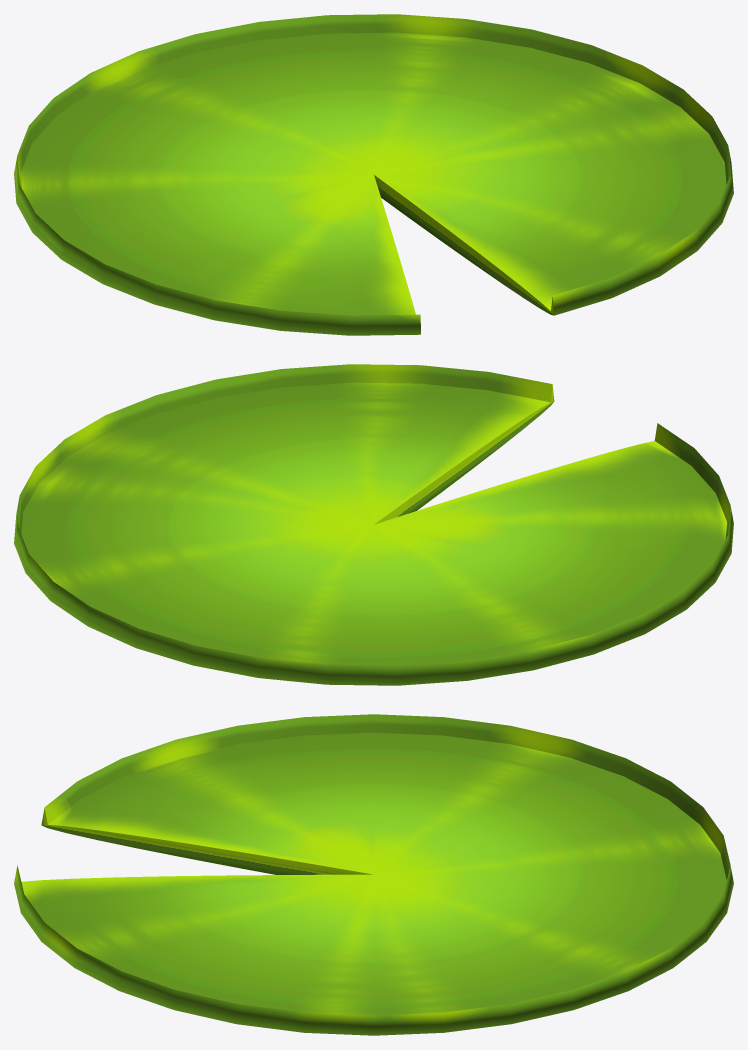
The model's file is Lilypad.fbx.
3 renders of one model, top to bottom at view 1: azimuth 30°, elevation 25°; view 2: azimuth 150°, elevation 25°; view 3: azimuth 270°, elevation 25°, orthographic.
Visible parts, largest first — view 1: Sphere; view 2: Sphere; view 3: Sphere.
Part boxes in pixels (left/top/right/bottom): Sphere: left=14, top=14, right=733, bottom=335; Sphere: left=14, top=364, right=733, bottom=685; Sphere: left=14, top=714, right=733, bottom=1035.
Size of the model in its own units: 200 by 8.46 by 200.
